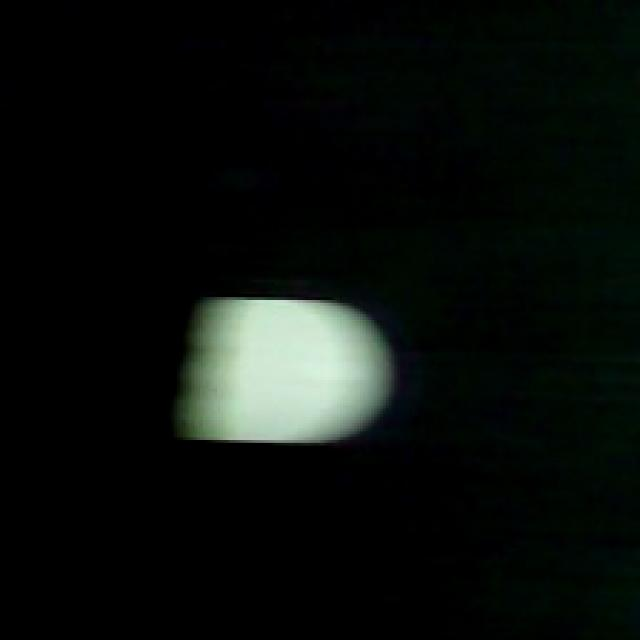defected: (166, 289, 403, 451)
